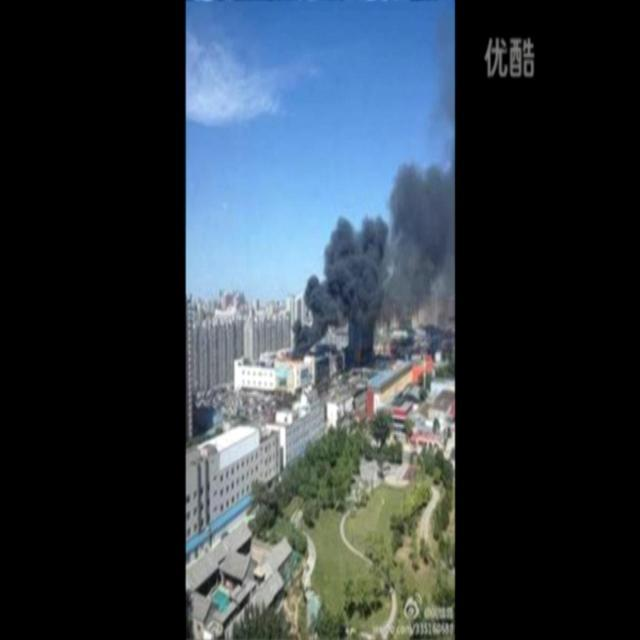Smoke: (290, 53, 456, 363)
